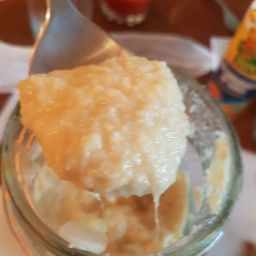Garlic cloves: (13, 101, 235, 246), (17, 53, 191, 203), (20, 62, 195, 201)
